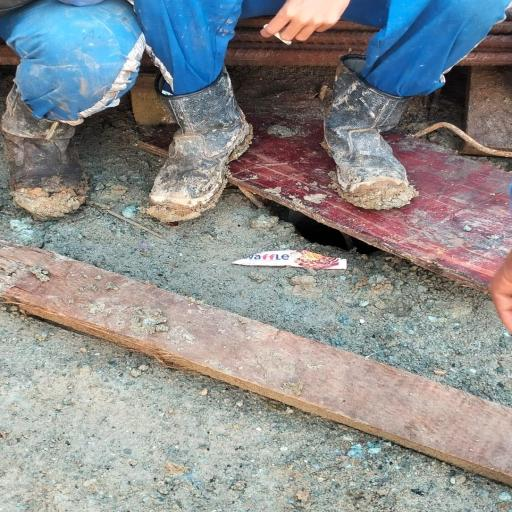safety_shoe: (136, 85, 269, 219), (305, 63, 421, 209), (8, 84, 102, 224)
